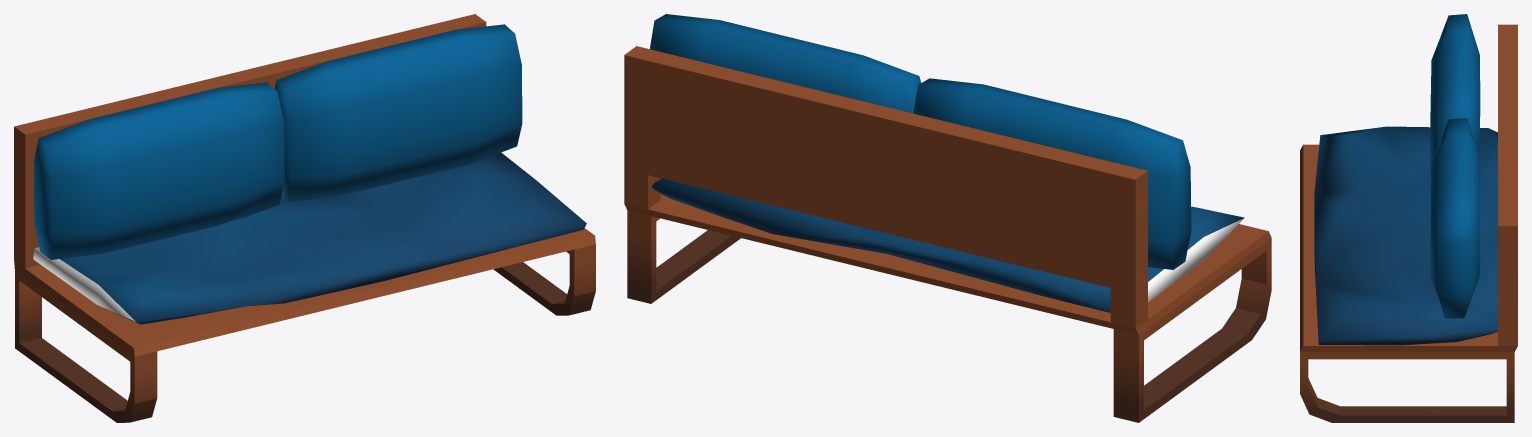
File: furniture_bench0.fbx
3 views of the same model, side by side, from view 1: azimuth 30°, elevation 25°; view 2: azimuth 150°, elevation 25°; view 3: azimuth 270°, elevation 25° (orthographic). The views are drawn at different scales.
Visible parts, largest first — view 1: furniture_bench0; view 2: furniture_bench0; view 3: furniture_bench0.
Boxes of the visible parts, <box> form: furniture_bench0: <box>14,14,595,422</box>; furniture_bench0: <box>624,14,1271,422</box>; furniture_bench0: <box>1300,14,1517,422</box>.
Bounding box in the file's own units: 2.04 × 0.9134 × 0.9778.
